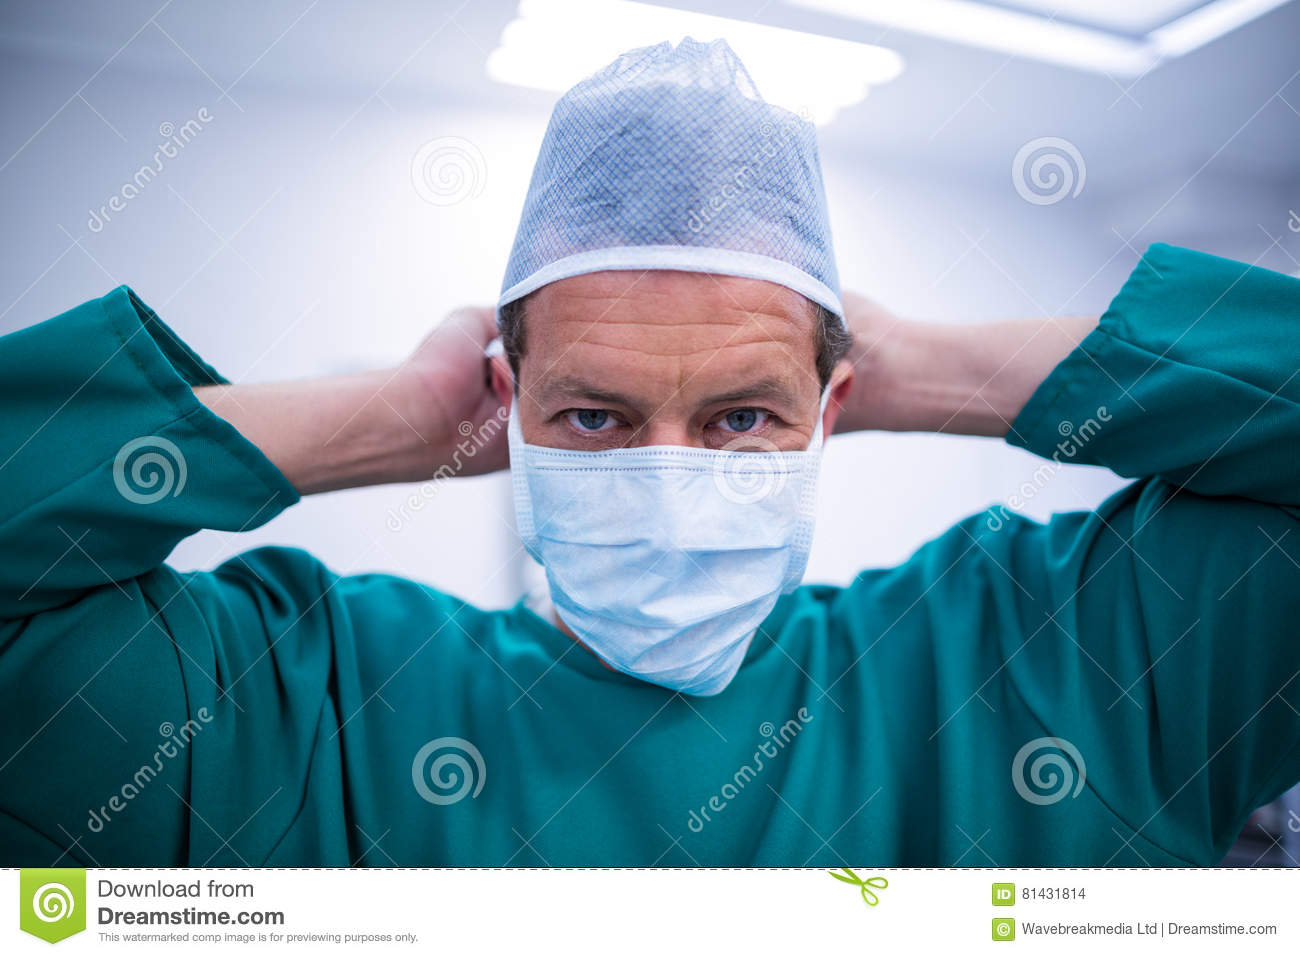mask: (507, 448, 808, 688)
